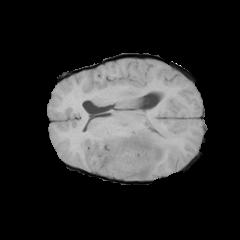glioma: (98, 123, 176, 178)
